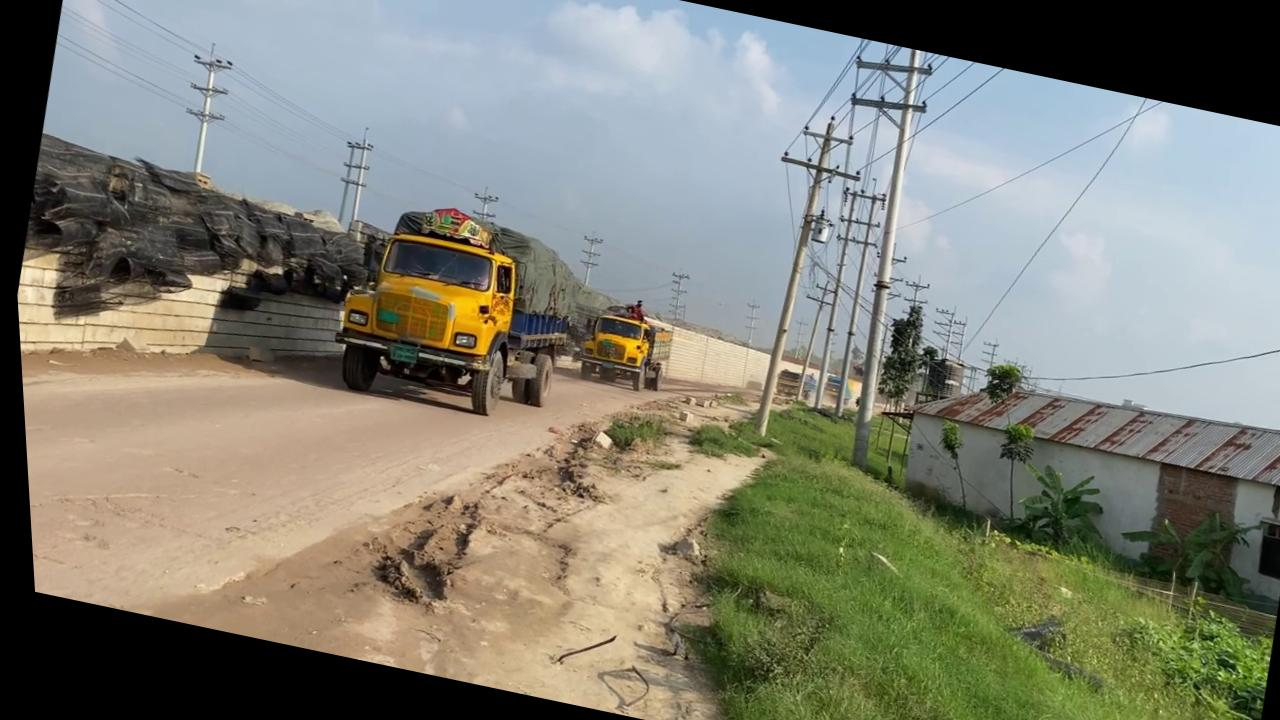Pole: (817, 49, 951, 470), (718, 107, 881, 447)
Rickshaw: (301, 306, 792, 720)
Traffic-sign: (1001, 458, 1107, 554), (976, 417, 1036, 522), (973, 358, 1020, 408)
Tree: (311, 187, 590, 432), (563, 294, 672, 395)
Upstairs: (11, 226, 354, 420)
